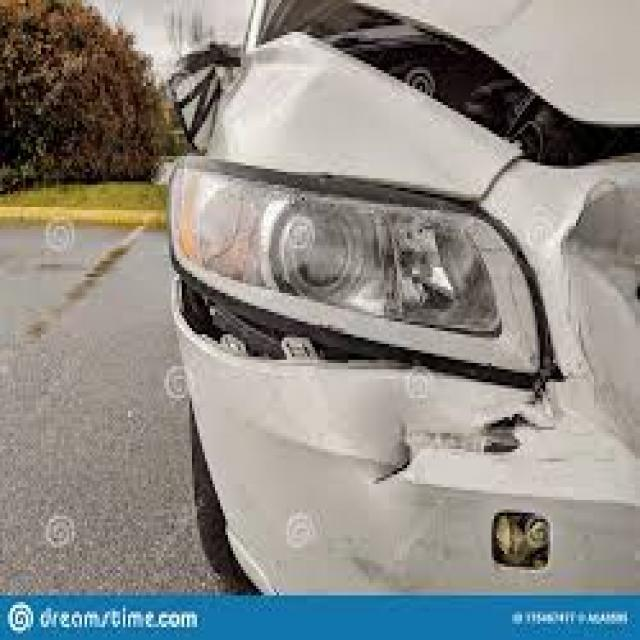damaged-head-light: (180, 158, 540, 392)
